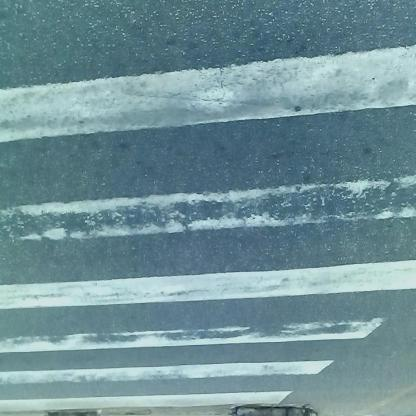crosswalk: (5, 13, 412, 410)
